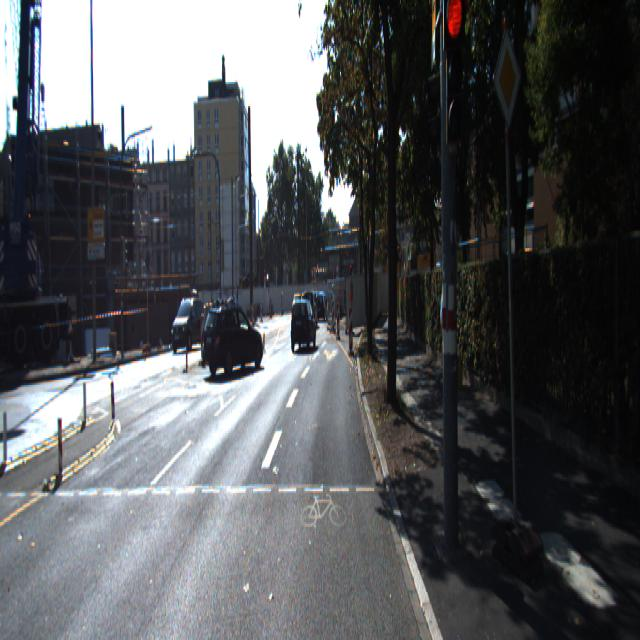Car: (200, 296, 265, 373), (170, 292, 205, 350), (289, 293, 317, 349), (291, 291, 305, 323)
